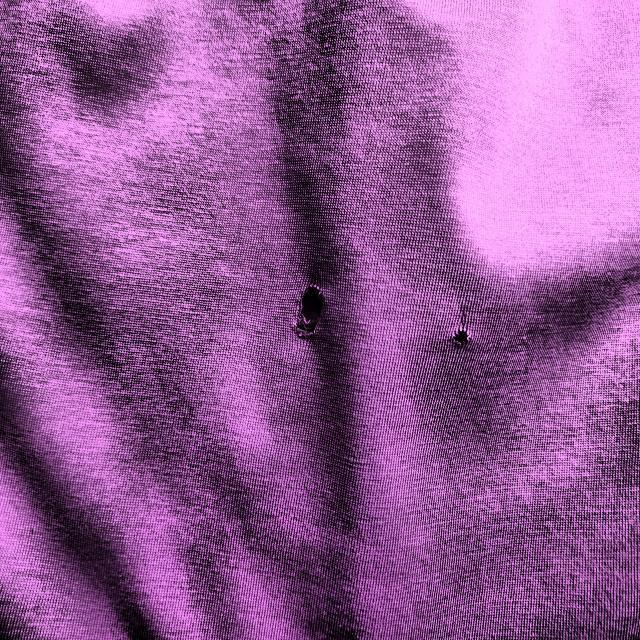cut: (278, 265, 333, 349), (443, 317, 488, 359)
